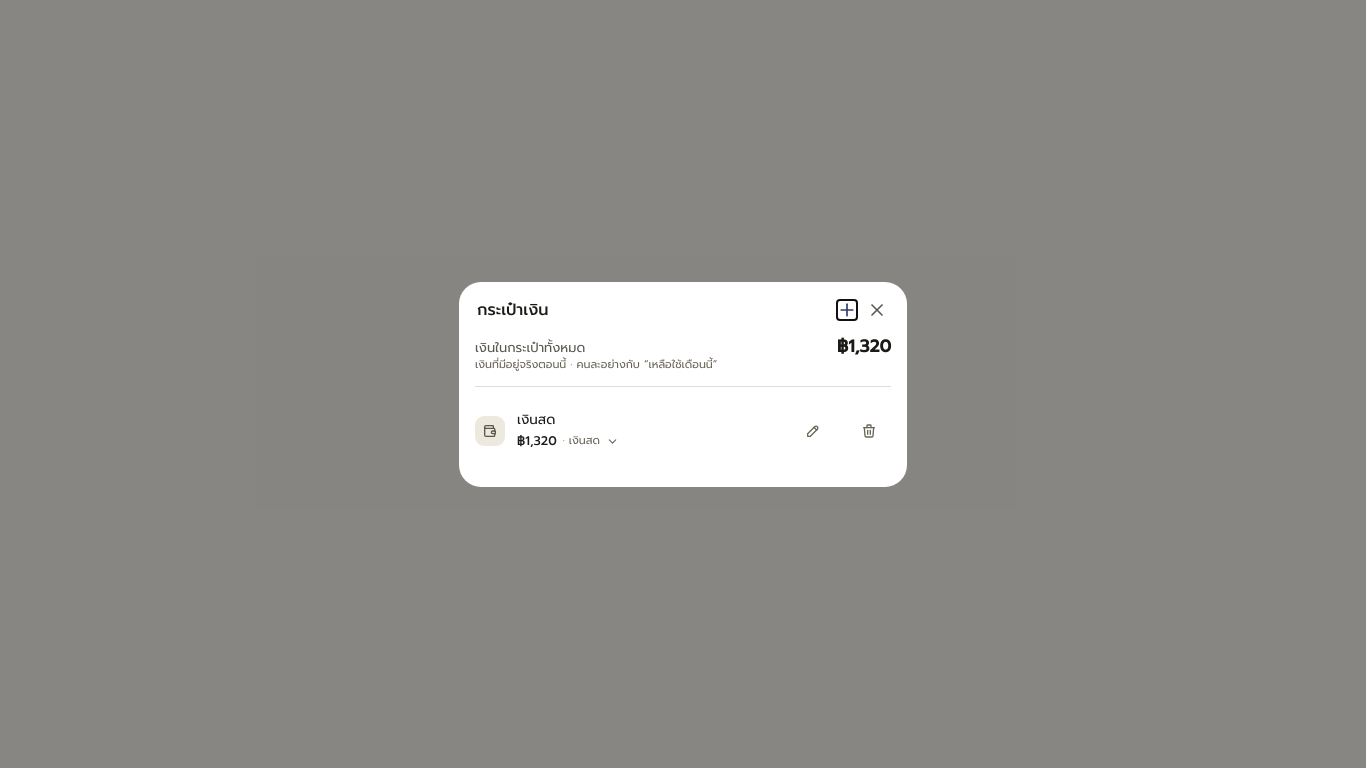
Test: WalletsManager — balance display comes straight from the RPC › reveals the RPC components (opening / income / expense / transfers) on tap
Click the button with aria-label "ที่มาของยอดคงเหลือ เงินสด".
click(537, 441)  # box [517, 432, 779, 451]
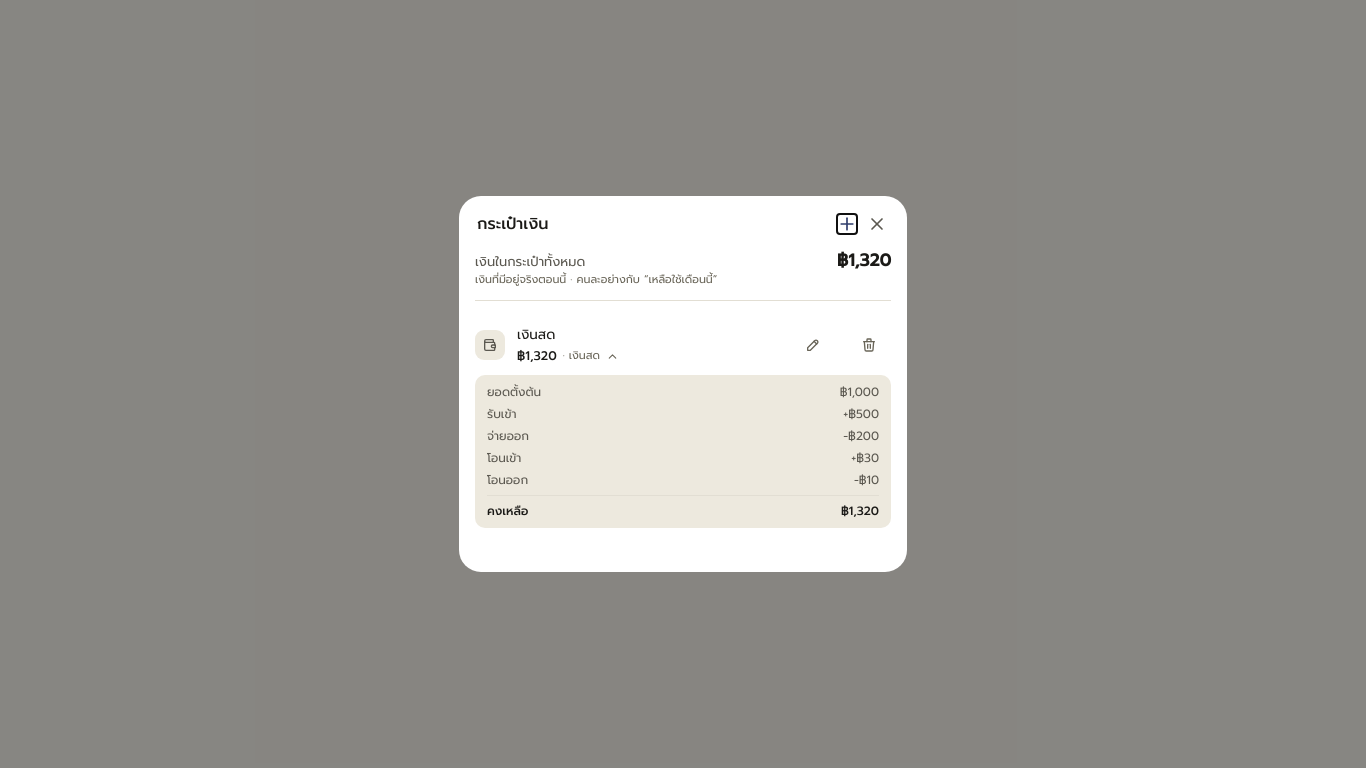
Check: the text "ยอดตั้งต้น" is shown, box [487, 383, 541, 401]
Check: the text "+฿500" is shown, box [843, 405, 879, 423]
Check: the text "−฿200" is shown, box [843, 427, 879, 445]
